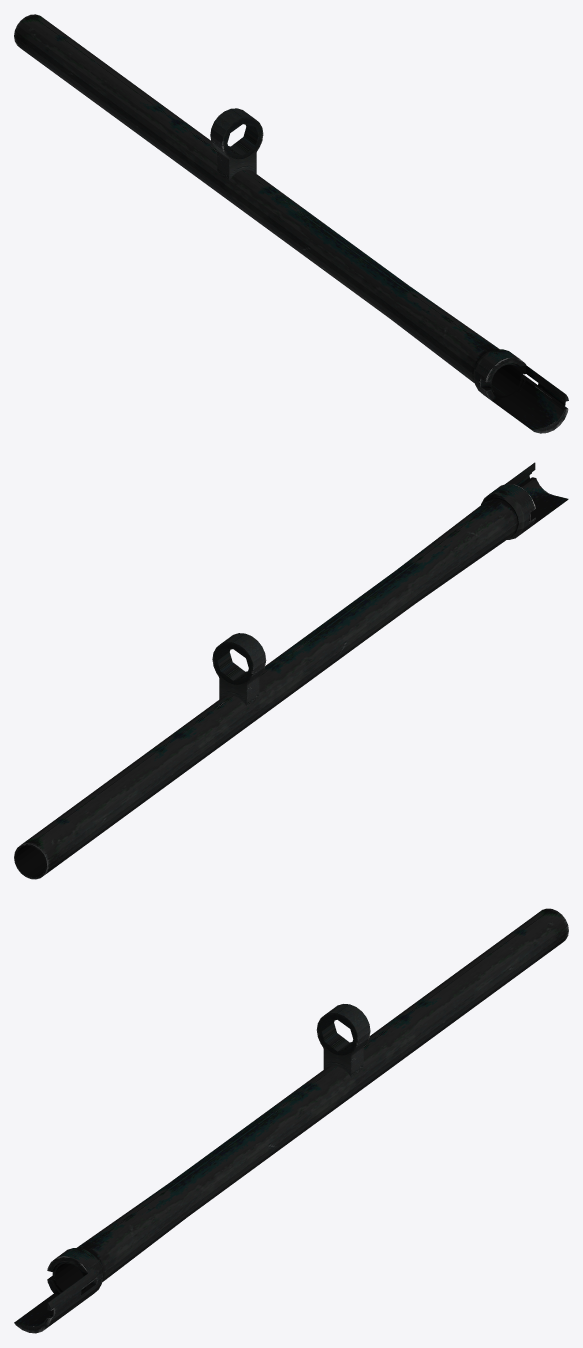
The picture shows the model from 3 angles, top to bottom: view 1: azimuth 30°, elevation 25°; view 2: azimuth 150°, elevation 25°; view 3: azimuth 330°, elevation 25°; orthographic projection.
Visible parts, largest first — view 1: TW_560836484bdc2d20478b456e_PZ_Import; view 2: TW_560836484bdc2d20478b456e_PZ_Import; view 3: TW_560836484bdc2d20478b456e_PZ_Import.
Boxes of the visible parts, x1,y1,x2,y2 form: TW_560836484bdc2d20478b456e_PZ_Import: (14, 14, 568, 433); TW_560836484bdc2d20478b456e_PZ_Import: (14, 462, 568, 879); TW_560836484bdc2d20478b456e_PZ_Import: (14, 908, 568, 1333).
Bounding box in the file's own units: 0.0167 × 0.338 × 0.0334.
Materials: 1 (1 with a texture image).
